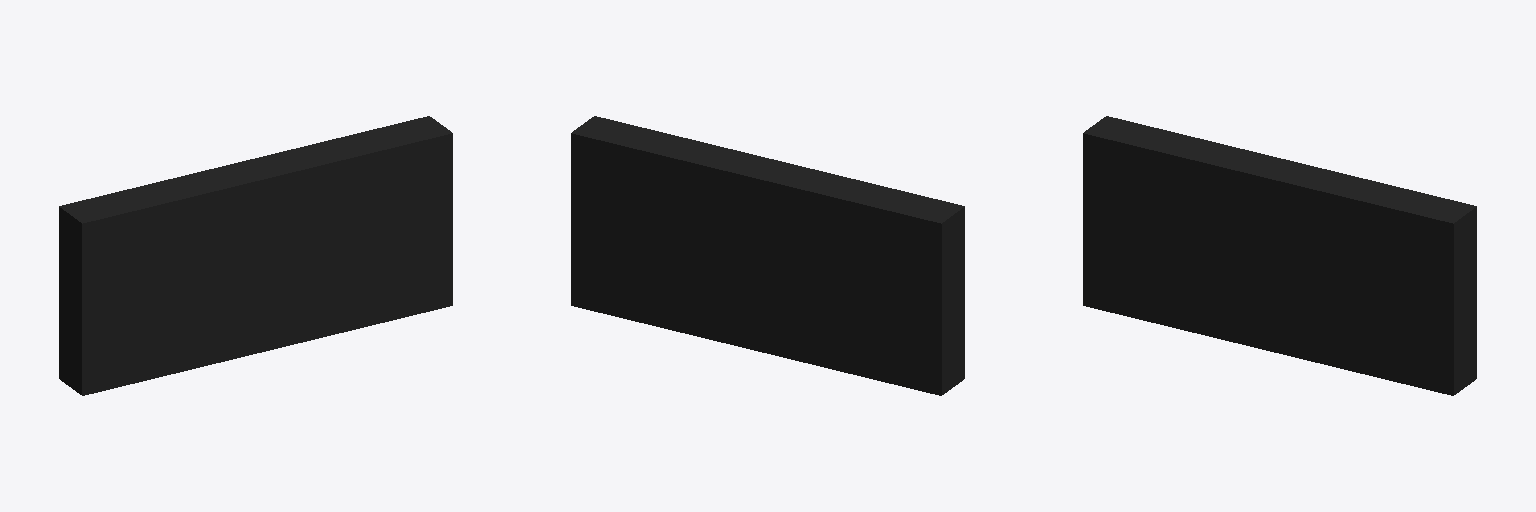
File: BBM.obj
3 views of the same model, side by side, from view 1: azimuth 30°, elevation 25°; view 2: azimuth 150°, elevation 25°; view 3: azimuth 330°, elevation 25° (orthographic).
Parts seen in each view (by area): view 1: cube1; view 2: cube1; view 3: cube1.
Boxes of the visible parts, <box> form: cube1: <box>59,116,452,395</box>; cube1: <box>571,116,964,395</box>; cube1: <box>1083,116,1476,395</box>.
Bounding box in the file's own units: 18 × 8 × 2.